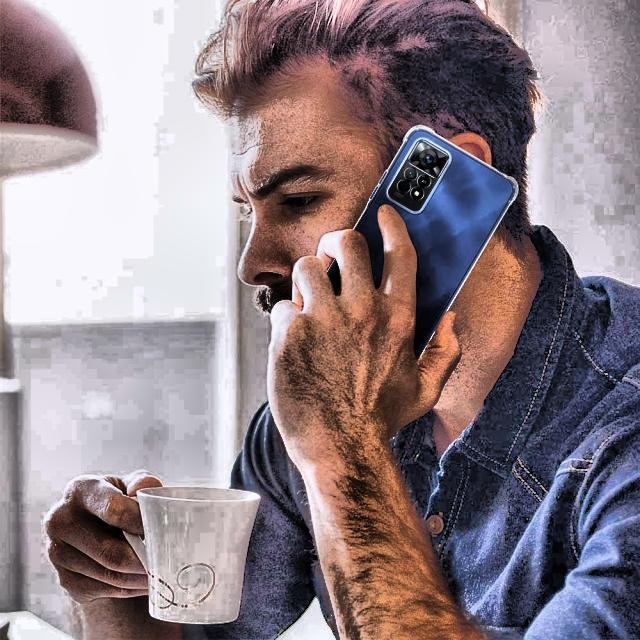Phone: (324, 120, 520, 364)
